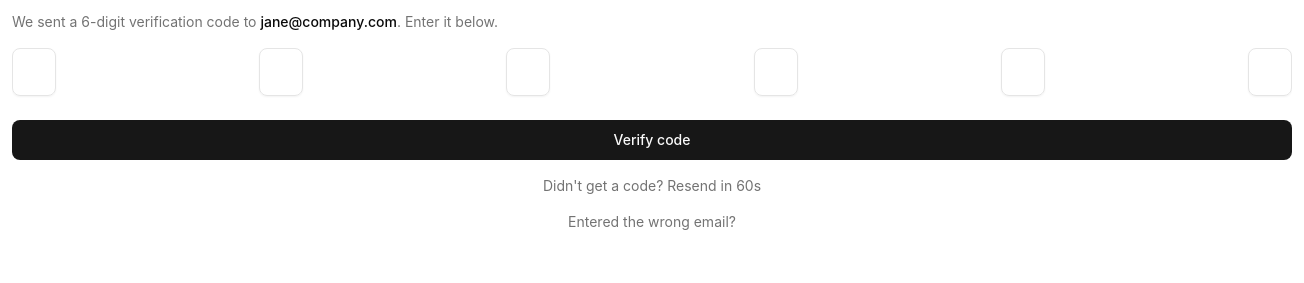
Test: VerifyStep › shows an expired-specific message for error_code "expired"
Type "1" into the field named "Digit 1 of 6" at [34, 72], box 12,48 -> 56,96
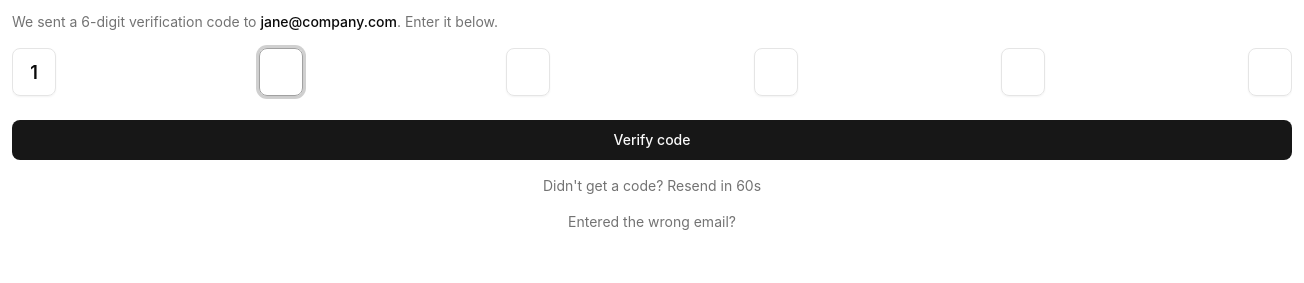
Type "2" into the field named "Digit 2 of 6" at [281, 72], box 259,48 -> 303,96
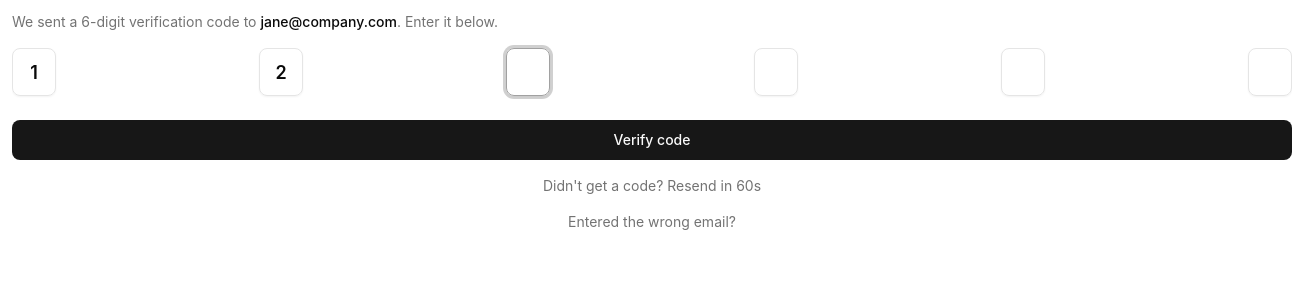
Type "3" into the field named "Digit 3 of 6" at [528, 72], box 506,48 -> 550,96
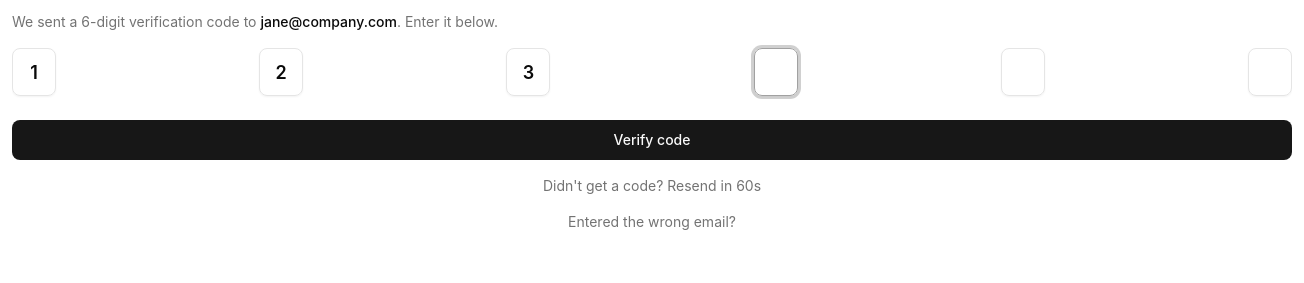
Type "4" into the field named "Digit 4 of 6" at [776, 72], box 754,48 -> 798,96
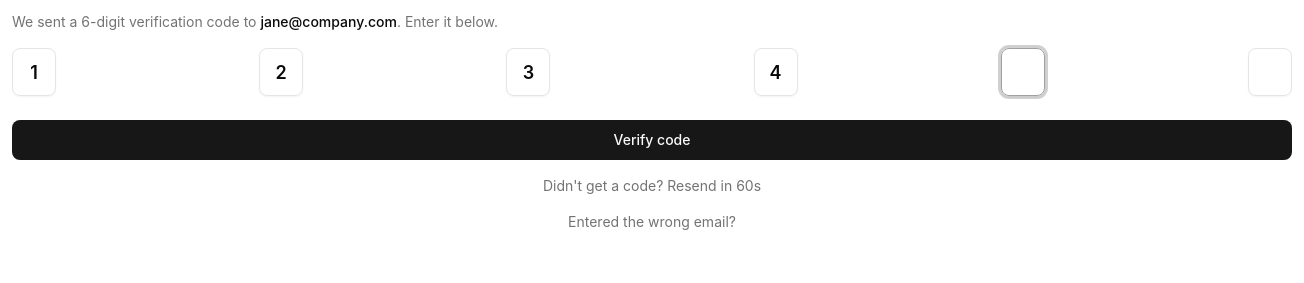
Type "5" into the field named "Digit 5 of 6" at [1023, 72], box 1001,48 -> 1045,96
Type "6" into the field named "Digit 6 of 6" at [1270, 72], box 1248,48 -> 1292,96
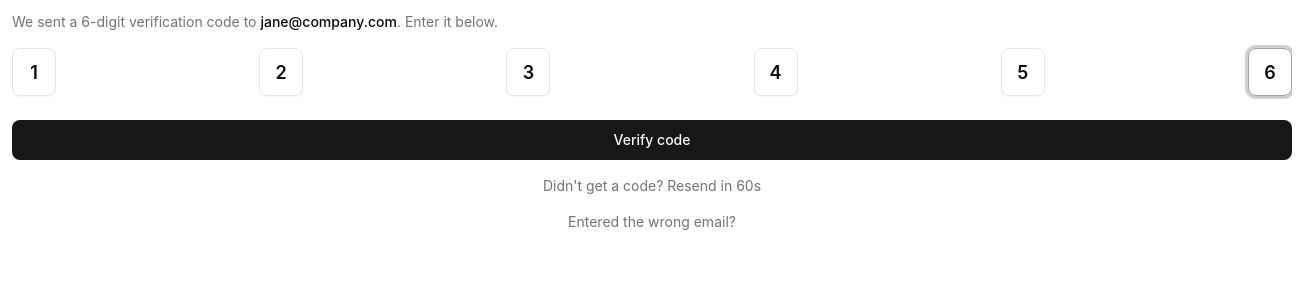
Click the button "Verify code" at [652, 140], box 12,120 -> 1292,160
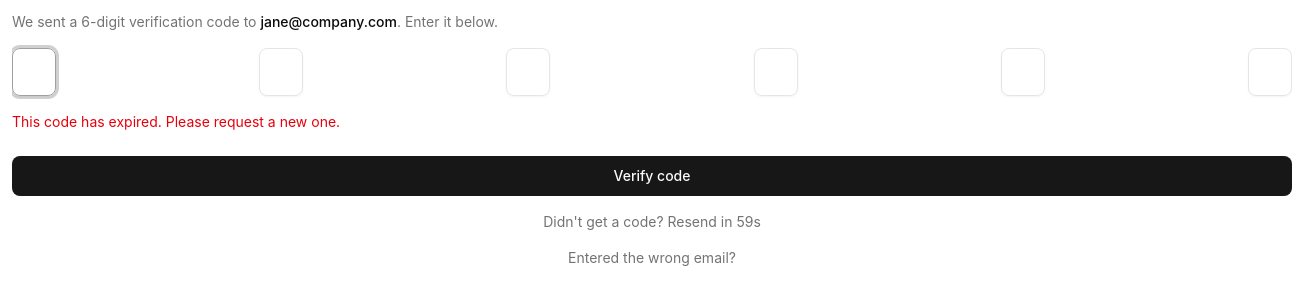
Result: the text "This code has expired. Please request a new one." is shown at 12,113 -> 340,130
